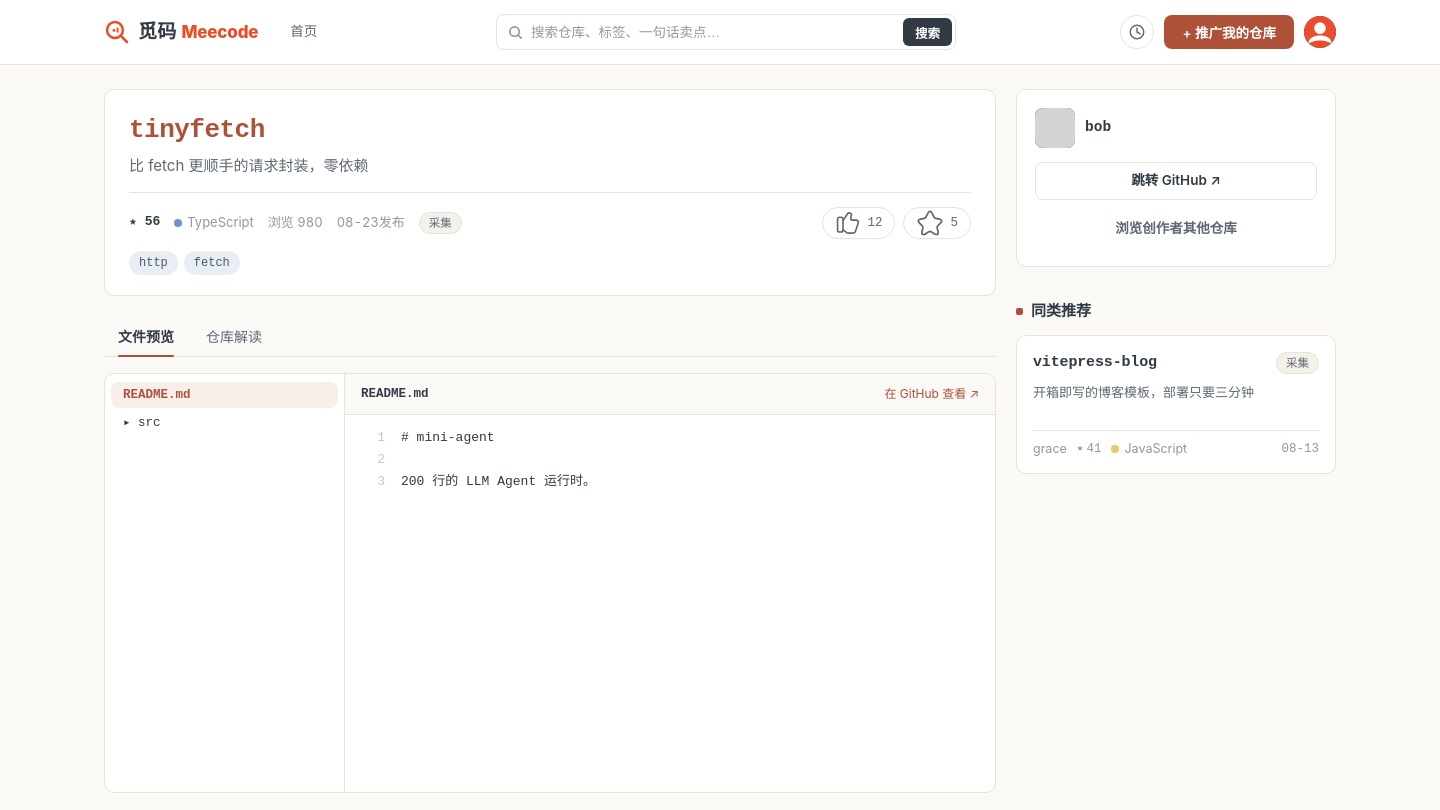
Scenario: RepoPage › 已登录收藏成功后收藏数即时 +1（可选字段存在时）
expect the heading "tinyfetch" is shown: met, box [129,115,265,145]
Click the button named "收藏" at (937, 223), box [904,207,971,239]
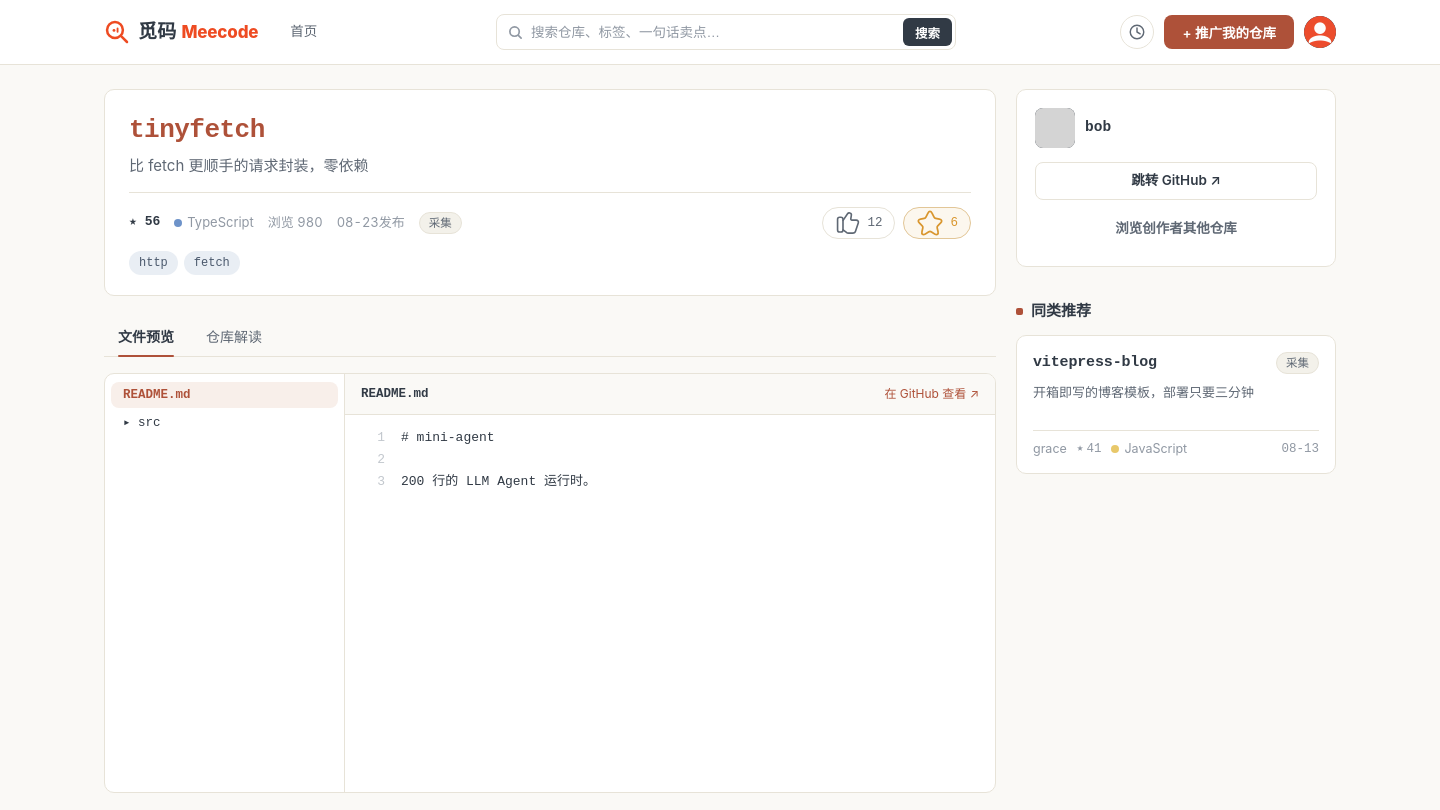
expect the button named "收藏" reads "6": met, box [904,207,971,239]
